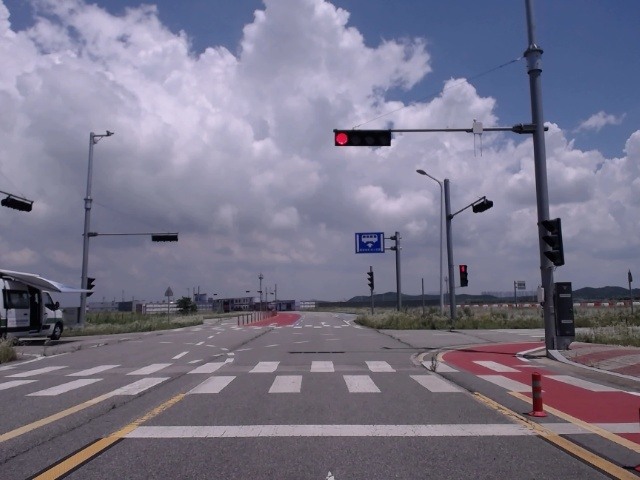red_4: (335, 132, 391, 146)
